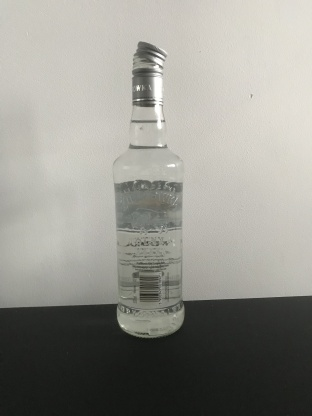nakretka: (130, 39, 168, 107)
